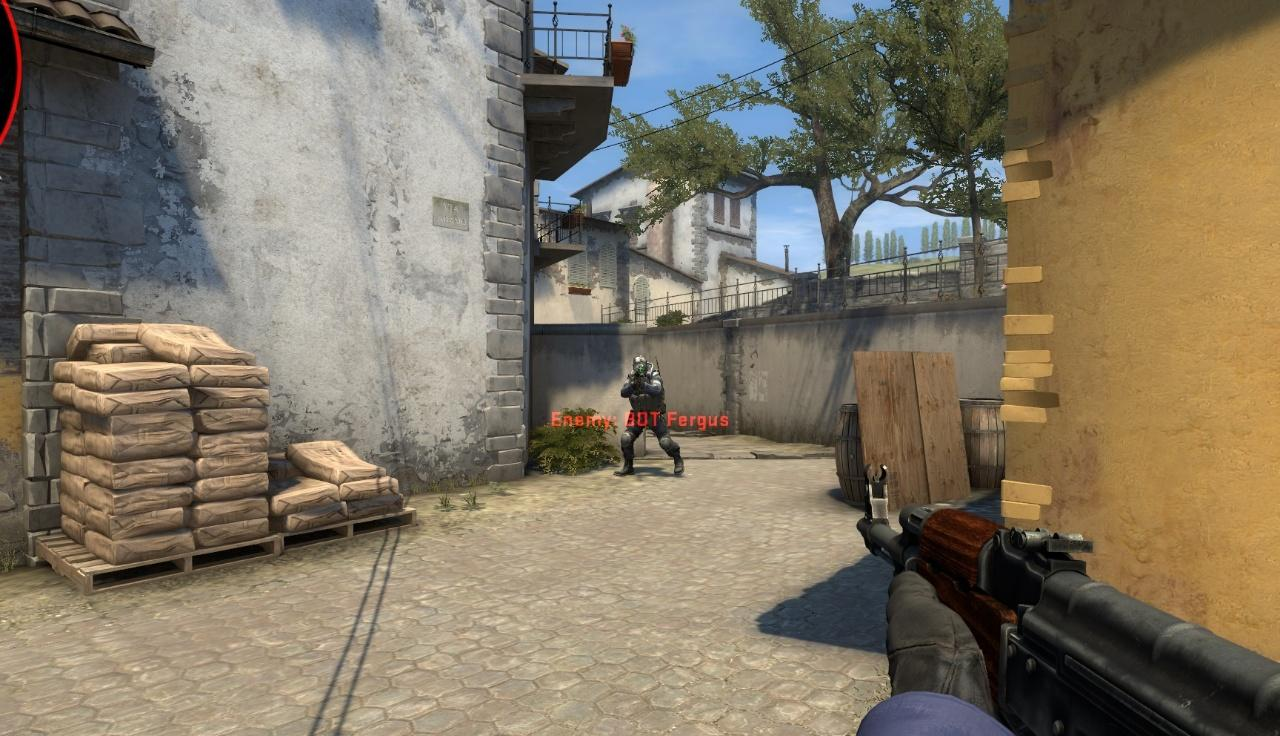ct: (613, 355, 681, 473)
cthead: (632, 356, 649, 379)
rifle: (855, 463, 1278, 732)
